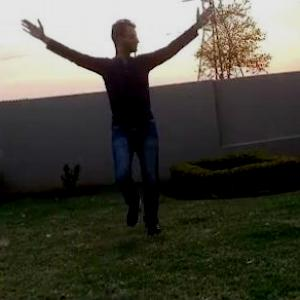takeoff: (24, 16, 206, 224)
